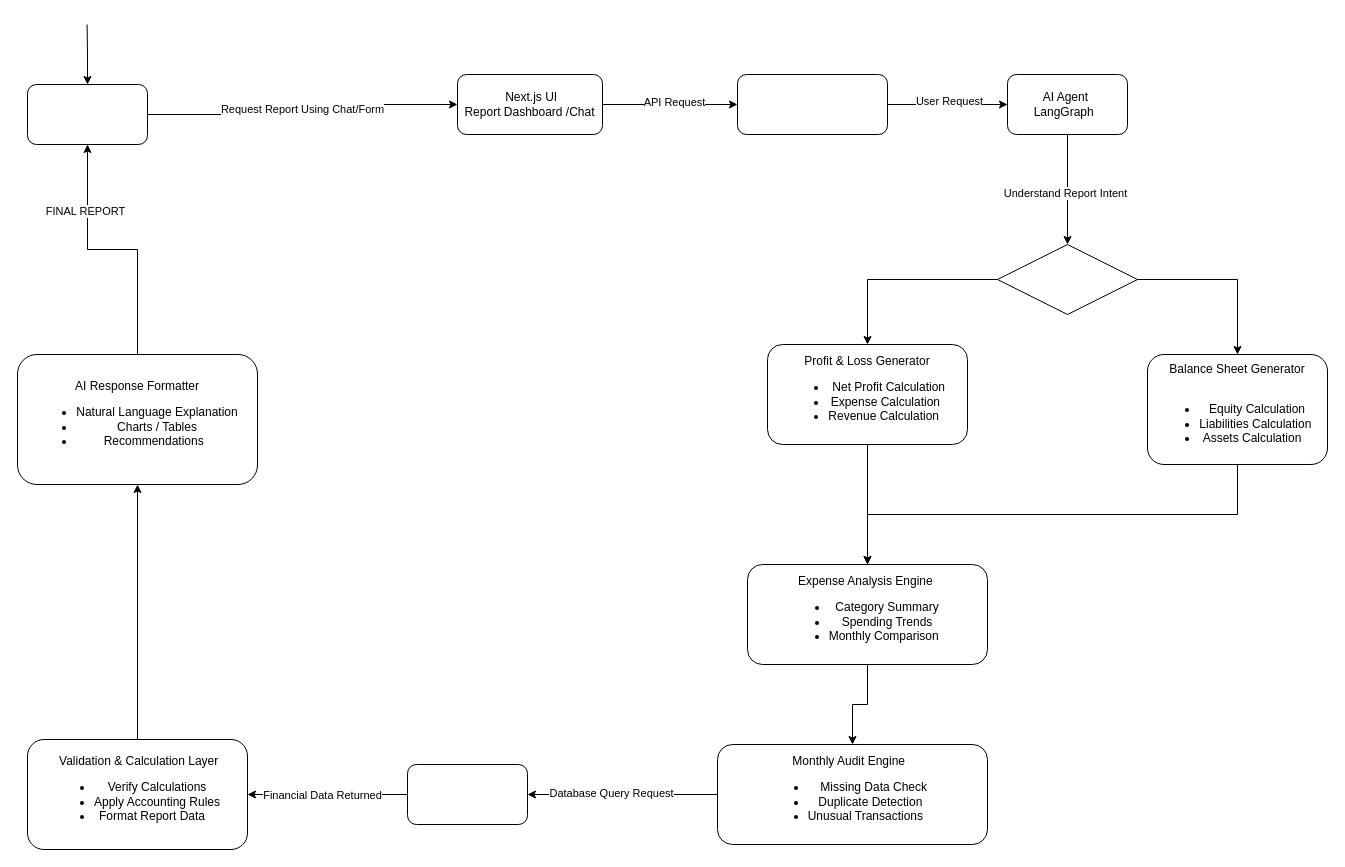
Some shapes in this 1345 by 867 pixel diagram are drawn without their labels. The centre of each missing label's shape, as x and y in pixels:
FastAPI Backend Report API Endpoint: point (812, 104)
PostgreSQL Database: point (467, 794)
Report Decision Engine: point (1067, 279)
USER: point (87, 114)
